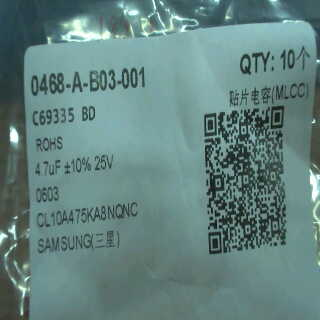4.7uF: (30, 153, 62, 183)
